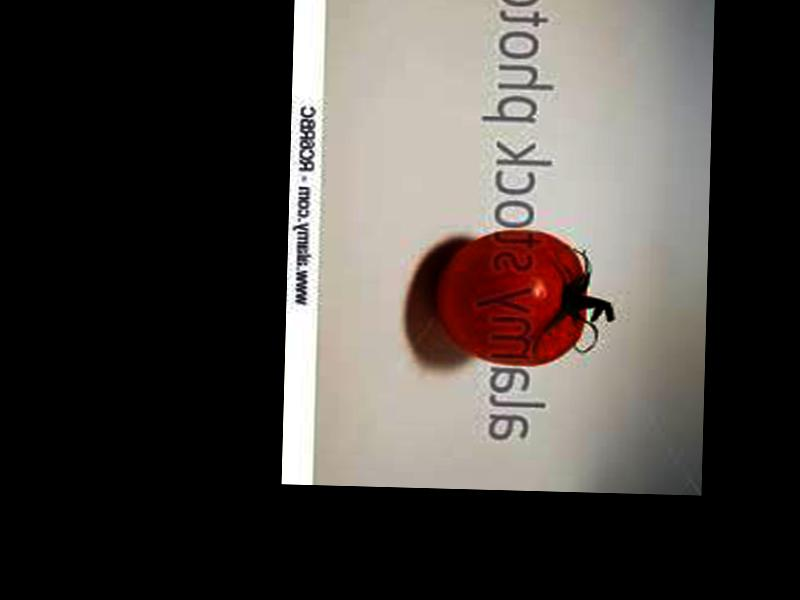Tomato: (435, 227, 590, 367)
